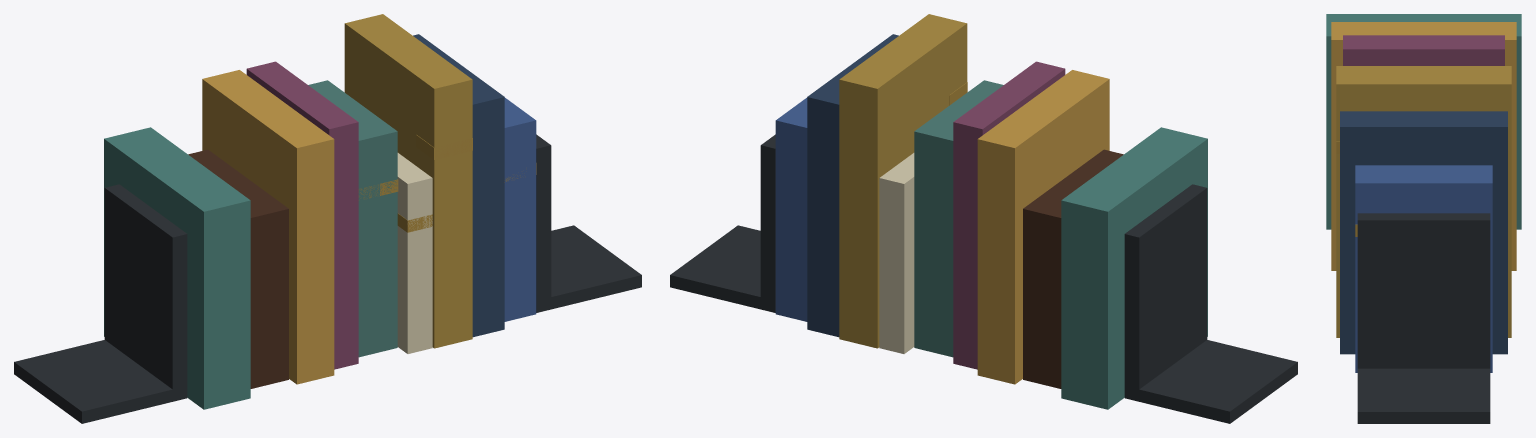
Rendered from book-stack-06.glb.
3 views of the same model, side by side, from view 1: azimuth 30°, elevation 25°; view 2: azimuth 150°, elevation 25°; view 3: azimuth 270°, elevation 25° (orthographic). The views are drawn at different scales.
Visible parts, largest first — view 1: book_stack_06; view 2: book_stack_06; view 3: book_stack_06.
Boxes of the visible parts, x1=… form: book_stack_06: x1=14, y1=14, x2=641, y2=423; book_stack_06: x1=670, y1=14, x2=1297, y2=423; book_stack_06: x1=1326, y1=14, x2=1521, y2=423.
Size of the model in its own units: 0.5708 by 0.2529 by 0.1764.
